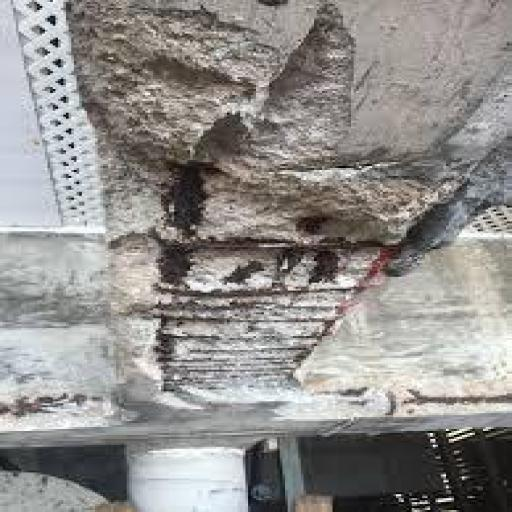spalling: (110, 4, 459, 393)
